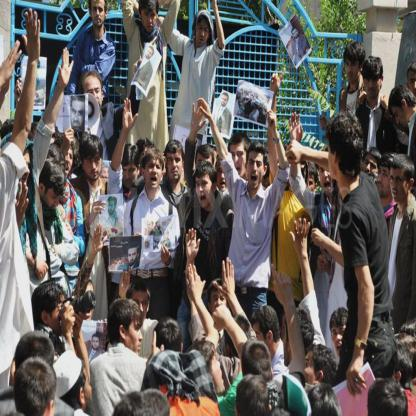face: (50, 299, 68, 337), (390, 169, 409, 203), (211, 351, 226, 393), (128, 319, 144, 356), (84, 79, 103, 110), (248, 154, 264, 190), (283, 326, 297, 367), (332, 326, 349, 359), (319, 161, 335, 196), (196, 176, 213, 208), (301, 355, 316, 390), (84, 154, 103, 181), (146, 159, 163, 189), (132, 293, 149, 323), (80, 286, 95, 320), (253, 328, 267, 364), (230, 147, 245, 178), (167, 153, 183, 182), (81, 371, 93, 409), (60, 146, 73, 181), (72, 103, 86, 133), (122, 163, 138, 189), (211, 292, 227, 318), (364, 157, 379, 184), (141, 152, 155, 179), (365, 76, 381, 99), (20, 155, 31, 188), (378, 167, 390, 197), (391, 108, 409, 128), (142, 9, 157, 33), (197, 157, 213, 179), (196, 22, 210, 47), (328, 143, 337, 181), (346, 60, 360, 84), (46, 187, 60, 211), (92, 2, 105, 27), (304, 177, 316, 202), (217, 167, 229, 191), (100, 169, 110, 189), (409, 73, 416, 98), (129, 251, 138, 267), (154, 238, 162, 252), (93, 339, 100, 351), (109, 202, 115, 215), (146, 49, 153, 60), (293, 29, 299, 38), (222, 96, 228, 105), (148, 224, 153, 234), (164, 233, 169, 241), (158, 221, 161, 230), (168, 222, 172, 228), (163, 222, 166, 228), (251, 97, 254, 102), (144, 231, 147, 236), (146, 241, 148, 247), (254, 103, 256, 108)
